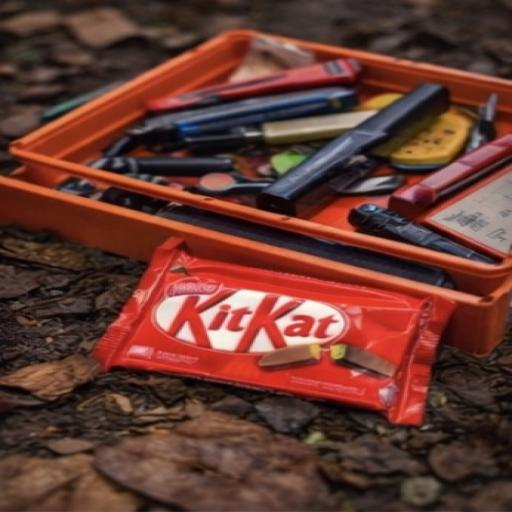kitkat: (95, 206, 476, 456)
